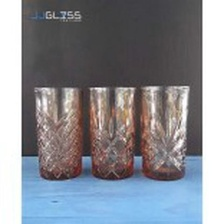bottle: (137, 80, 193, 184), (29, 81, 86, 181), (84, 81, 138, 181)
